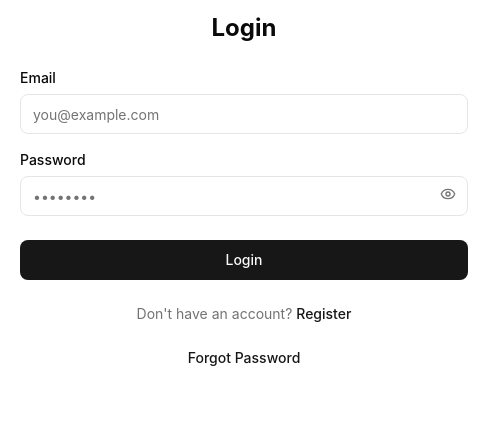
Test case: authentication and password forms › validates login email and password before submission
Click the button "Login". click: (244, 260)
box: 20,240 -> 468,280
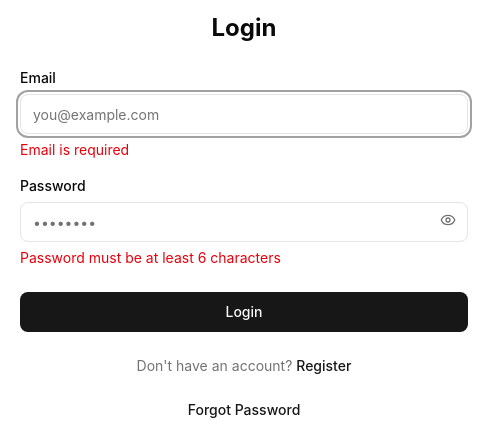
Result: the text "Email is required" is shown at 20,141 -> 129,158
Result: the text "Password must be at least 6 characters" is shown at 20,249 -> 281,266
